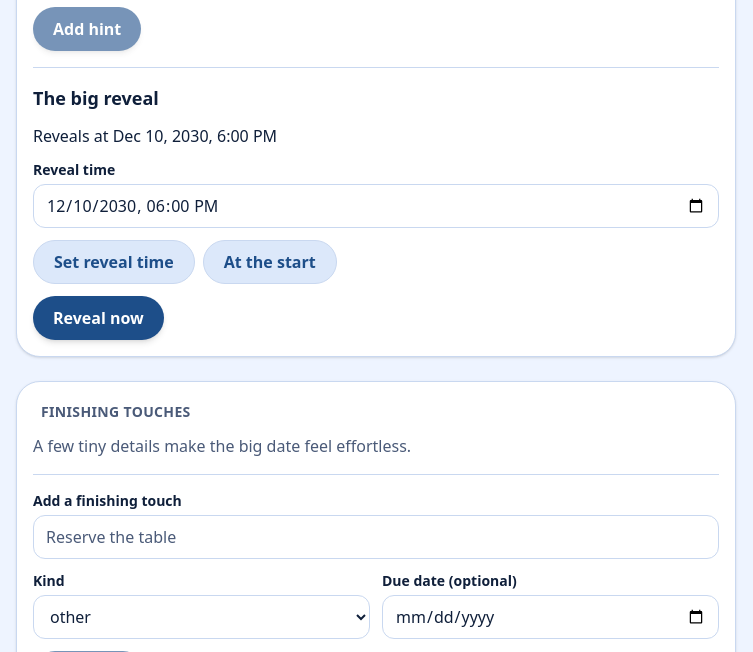
Scenario: SurpriseSection › reveals now after a confirm and shows Revealed
(page scrolled)
Click the button "Reveal now": (98, 318) [33,296,164,340]
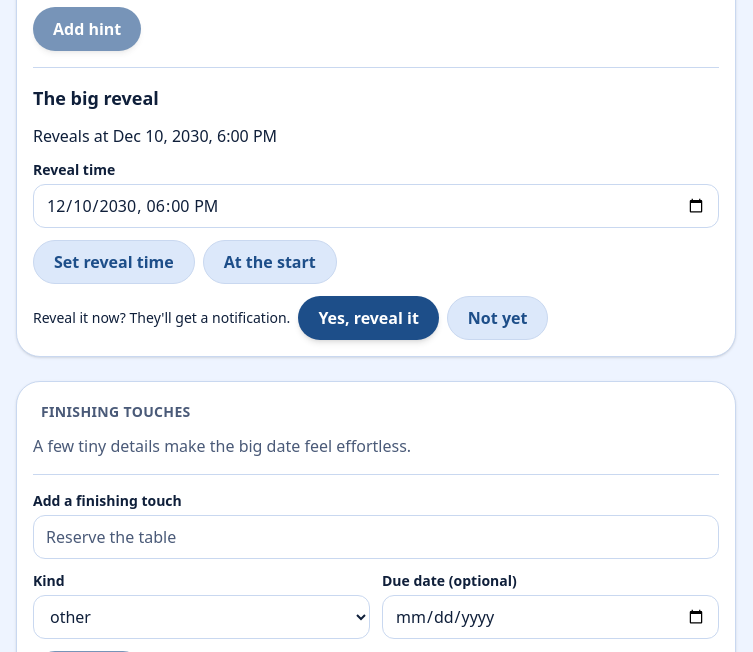
Expected: the text "Reveal it now? They'll get a notification." is shown, [33,308,290,328]
Click the button "Yes, reveal it": (369, 318) [298,296,439,340]
(page scrolled)
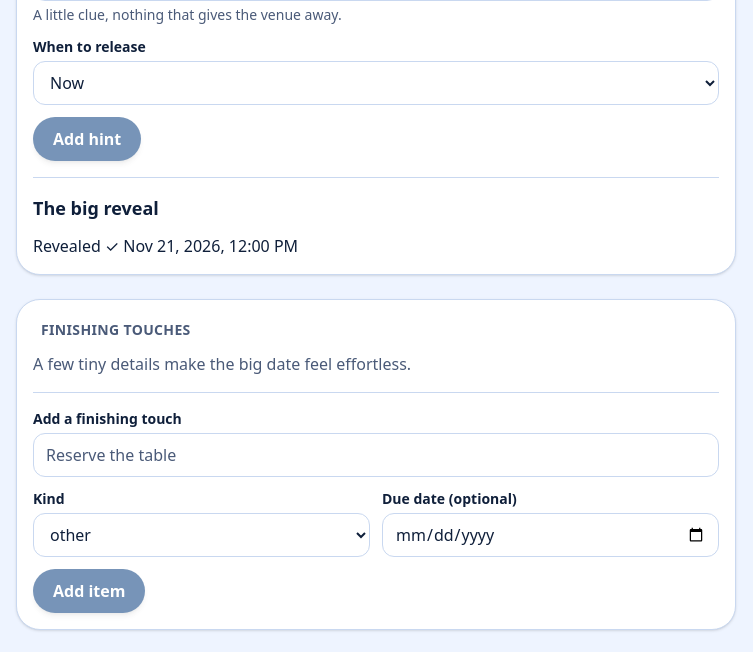
Expected: the button "Reveal now" is not shown
Expected: the text "Revealed ✓ Nov 21, 2026, 12:00 PM" is shown, [33,235,298,257]
